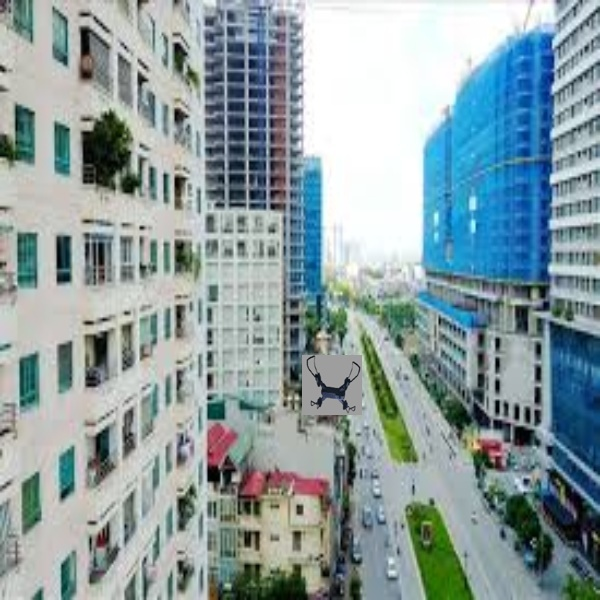drone: (299, 352, 363, 414)
